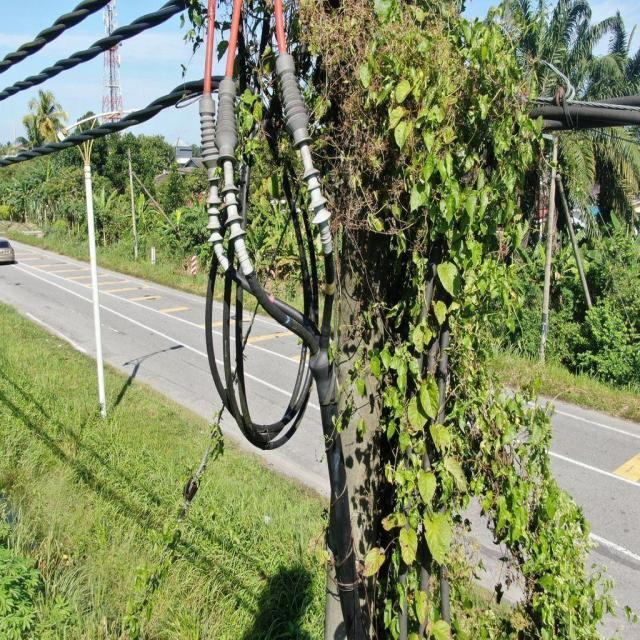critical vegetation: (211, 1, 603, 640)
